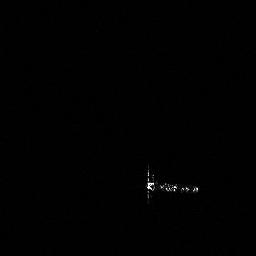ship: (144, 167, 200, 202)
